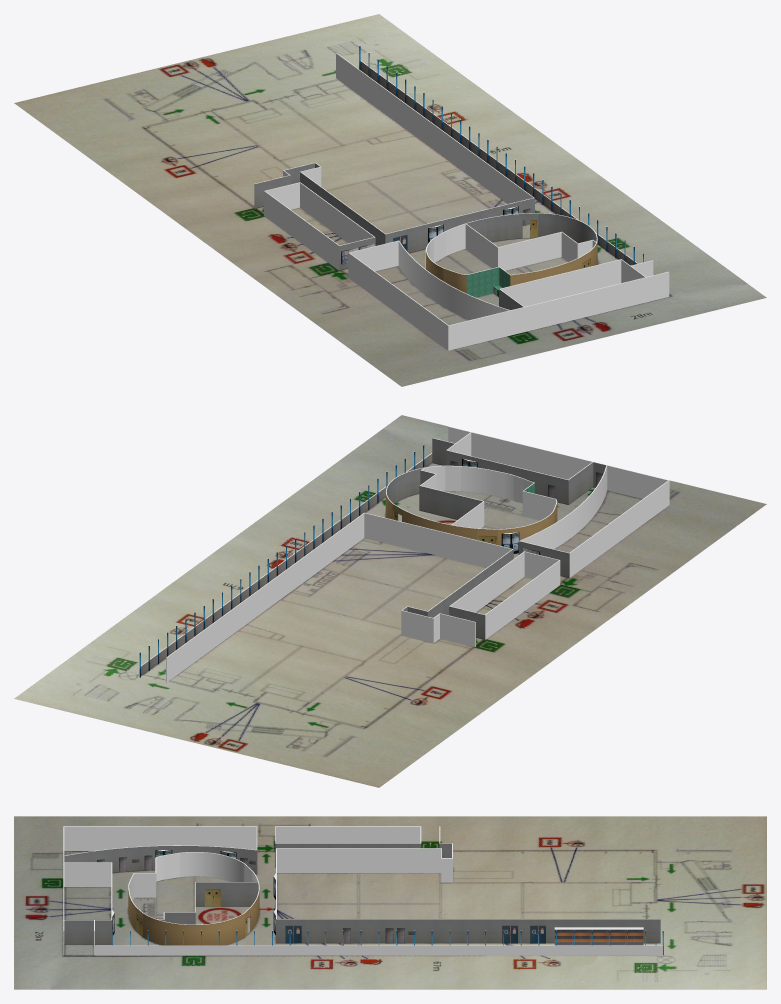
3 renders of one model, top to bottom at view 1: azimuth 30°, elevation 25°; view 2: azimuth 150°, elevation 25°; view 3: azimuth 270°, elevation 25°, orthographic. The views are drawn at different scales.
Parts seen in each view (by area): view 1: floorplan, SketchUp (×10); view 2: floorplan, SketchUp (×10); view 3: floorplan, SketchUp (×14), instance_64, instance_61.
Part boxes in pixels (x1,y1,x2,y2): floorplan: [14, 14, 766, 386]; SketchUp (×10): [254, 53, 669, 350]; floorplan: [14, 415, 766, 787]; SketchUp (×10): [166, 426, 669, 682]; floorplan: [14, 816, 766, 989]; SketchUp (×14): [63, 826, 660, 955]; instance_64: [625, 929, 643, 945]; instance_61: [572, 929, 590, 945].
Bounding box in the file's own units: 1816 × 3339 × 118.
16 materials, 15 textured.
